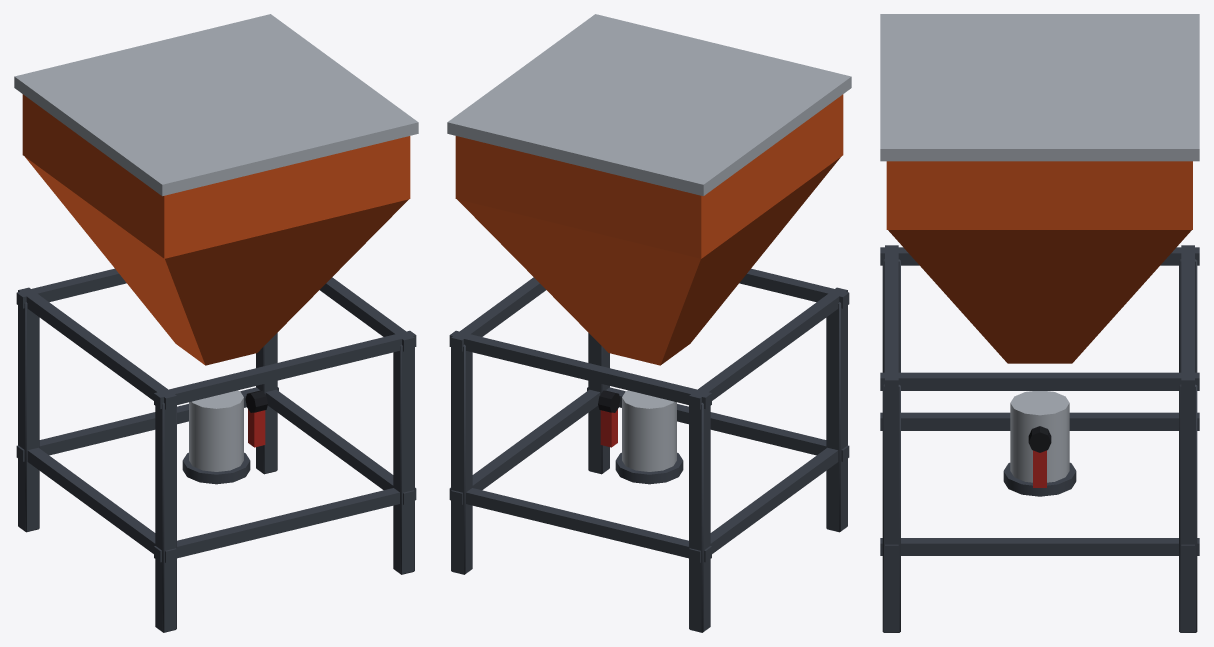
The model's file is storagebin_bulk_hopper.glb.
The picture shows the model from 3 angles, left to right: view 1: azimuth 30°, elevation 25°; view 2: azimuth 150°, elevation 25°; view 3: azimuth 270°, elevation 25°; orthographic projection. The views are drawn at different scales.
Parts seen in each view (by area): view 1: storagebin_bulk_hopper; view 2: storagebin_bulk_hopper; view 3: storagebin_bulk_hopper.
Boxes of the visible parts, bbox=[...] form: storagebin_bulk_hopper: bbox=[14, 14, 418, 632]; storagebin_bulk_hopper: bbox=[447, 14, 851, 632]; storagebin_bulk_hopper: bbox=[880, 14, 1199, 632].
Bounding box in the file's own units: 1.4 × 2.35 × 1.4.
